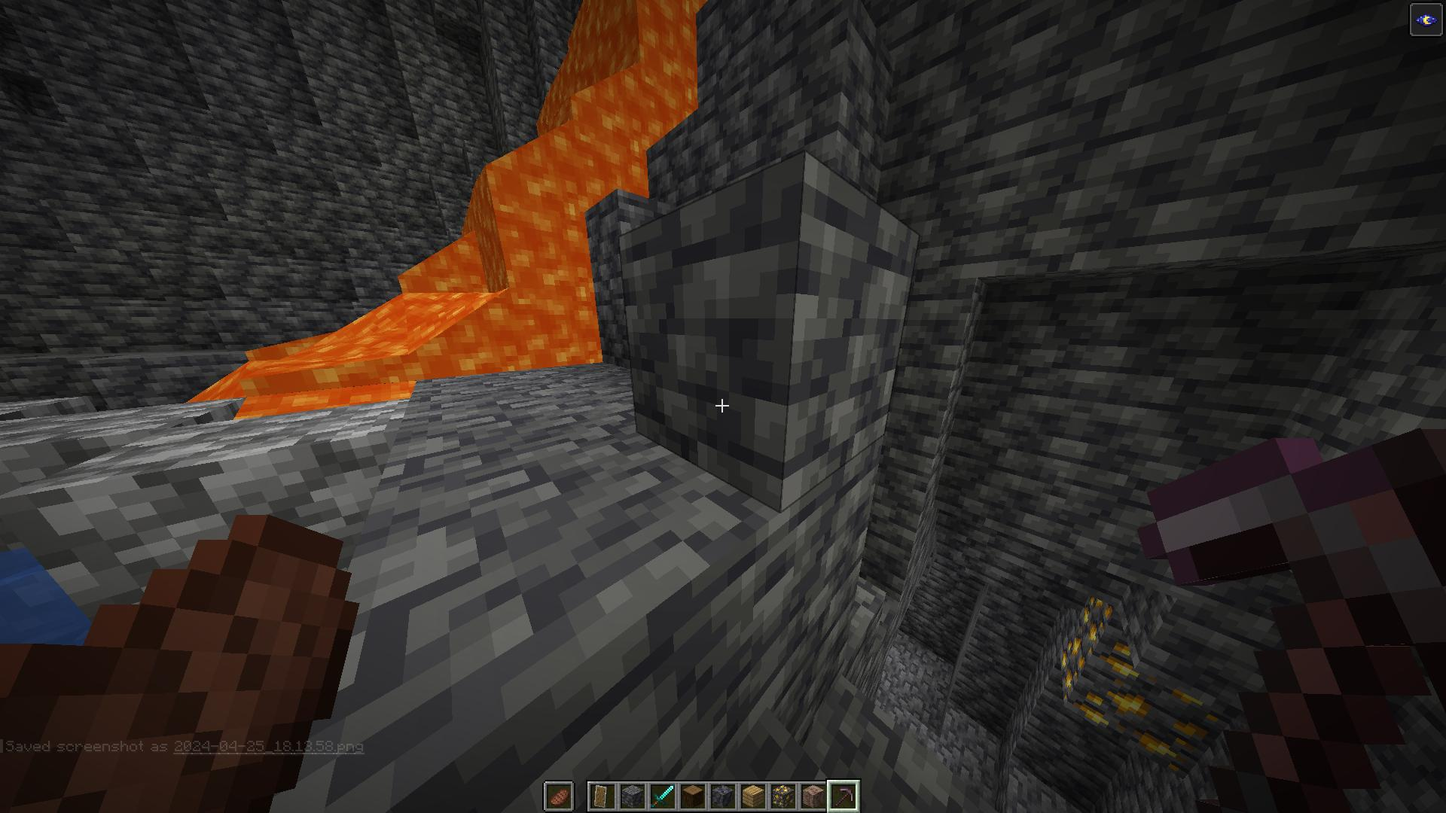gold ore: (1079, 648, 1213, 762), (1058, 597, 1131, 696)
